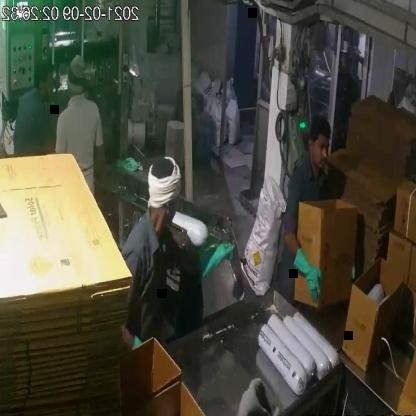glove: (178, 234, 236, 284), (291, 244, 327, 306)
